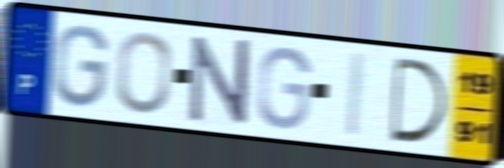D: (389, 54, 452, 146)
G: (50, 22, 112, 110), (253, 43, 314, 132)
I: (343, 50, 369, 141)
N: (188, 34, 252, 128)
O: (113, 29, 174, 116)
